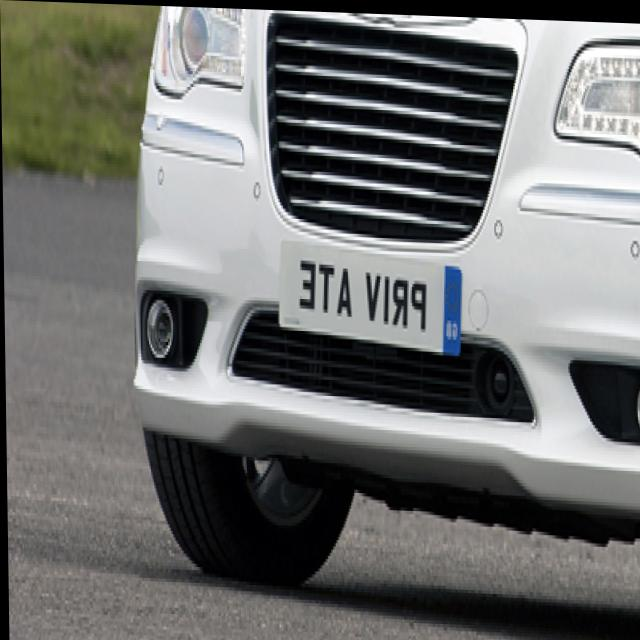licence: (277, 254, 463, 337)
